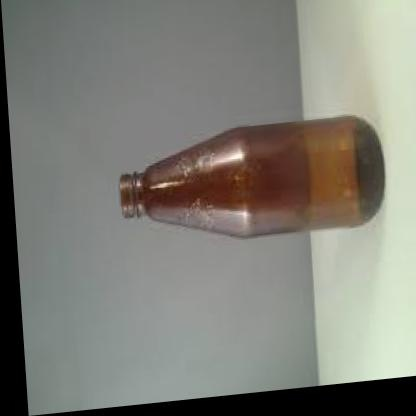trash: (120, 116, 384, 236)
